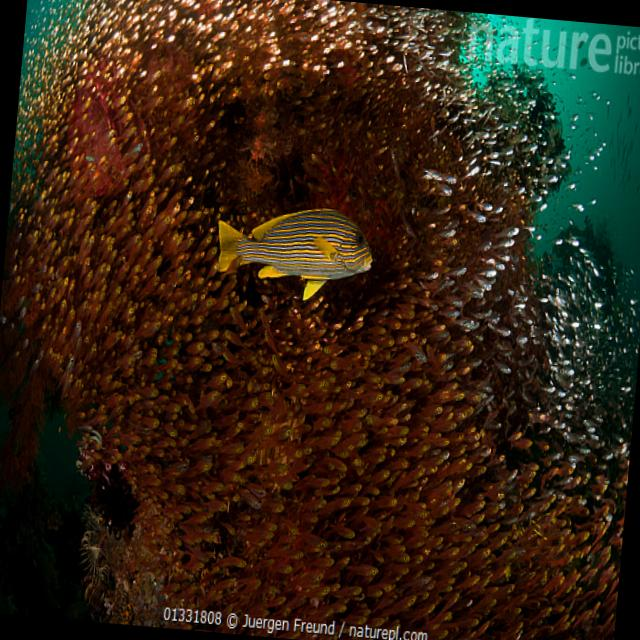RibbonedSweetlips: (212, 198, 378, 306)
